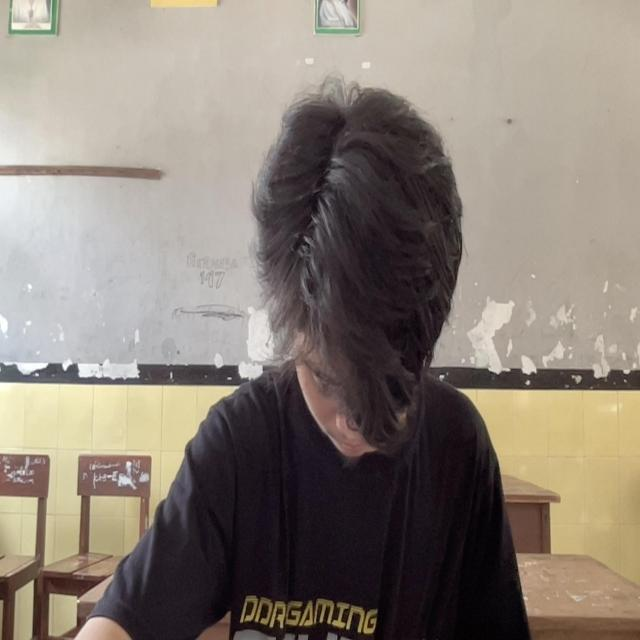9_cabeza_baja: (250, 78, 464, 460)
